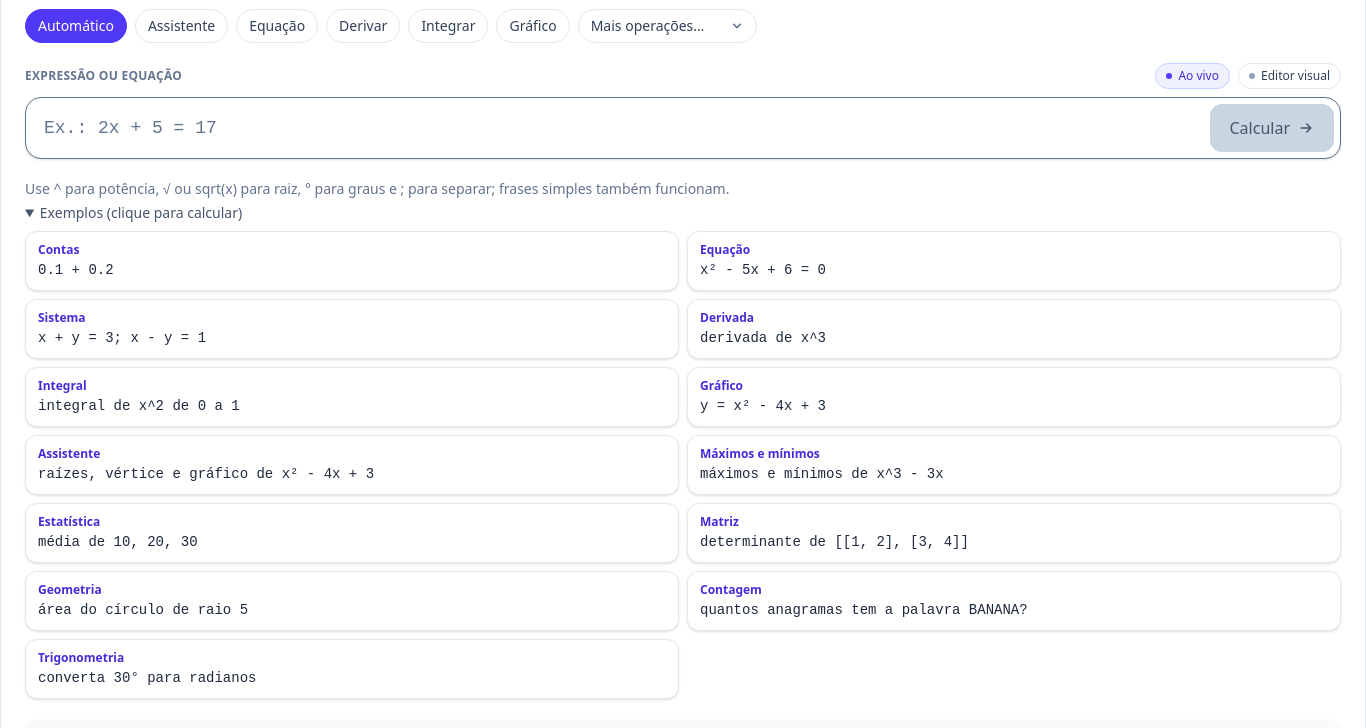
Test: Calculator › shows a math error and marks where it is in the input
Type "10 + 1/0" into the field labelled "Expressão ou equação" at (617,128), box [32, 104, 1202, 152]
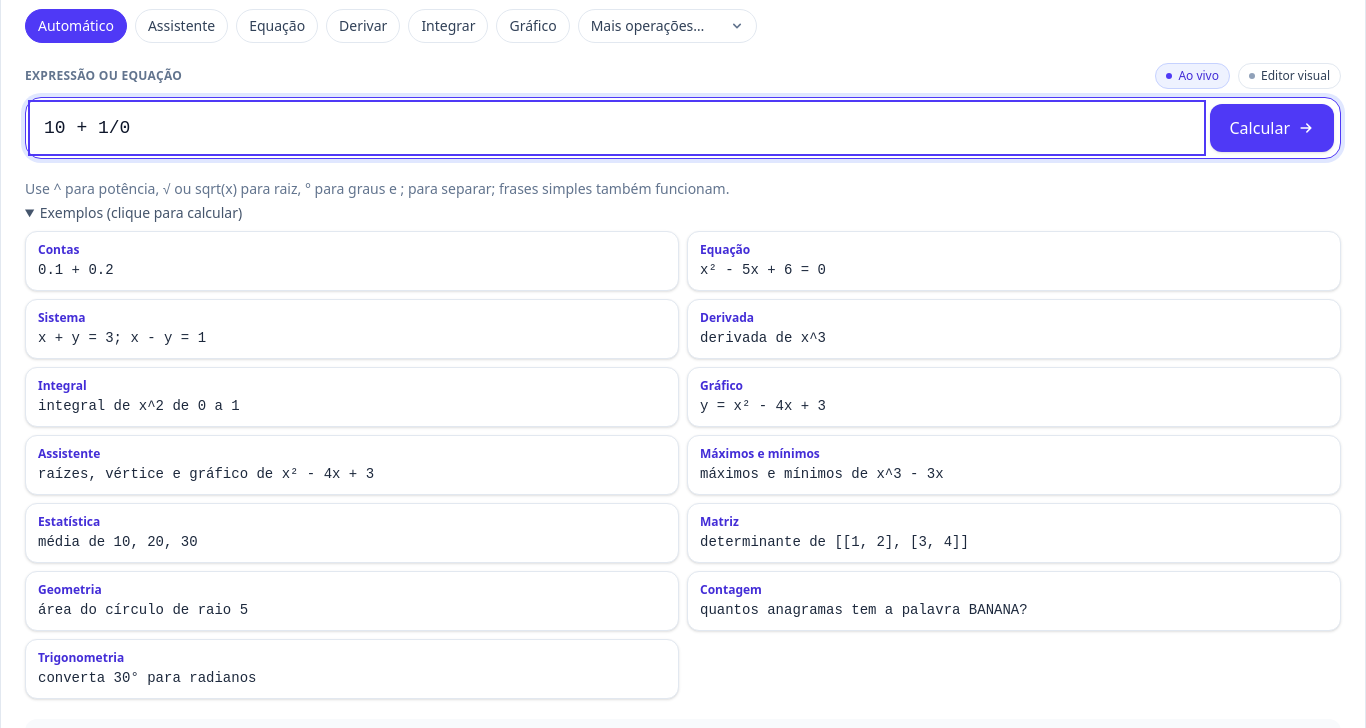
Click the button "Calcular" at (1272,128), box [1210, 104, 1334, 152]
(page scrolled)
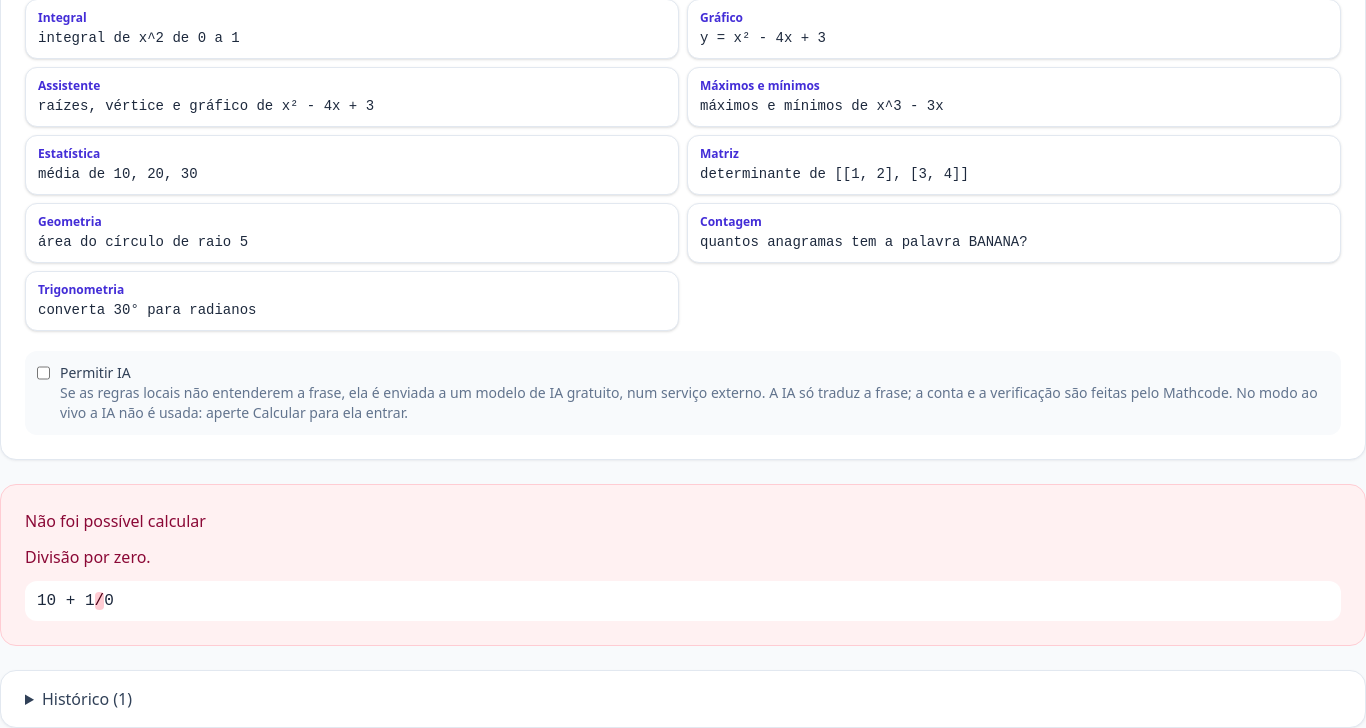
Check: the message shows "Divisão por zero.", box [25, 546, 151, 568]
Check: the text "/" is shown, box [95, 592, 104, 610]
